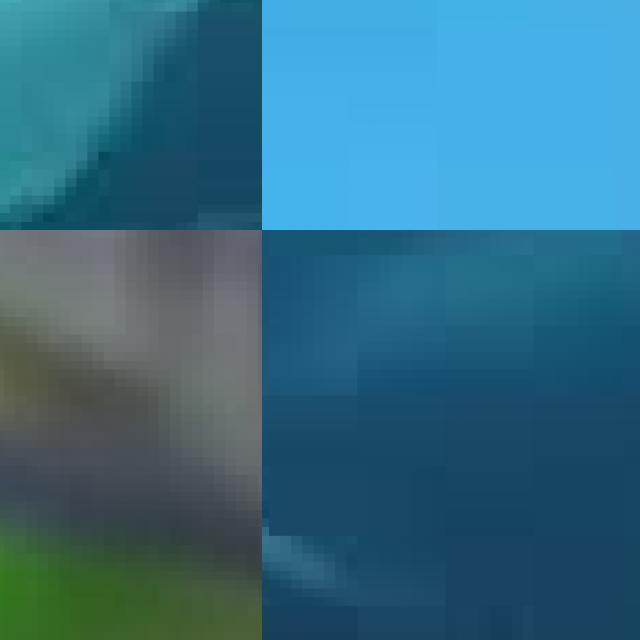fish: (0, 230, 262, 640), (0, 0, 262, 230)
